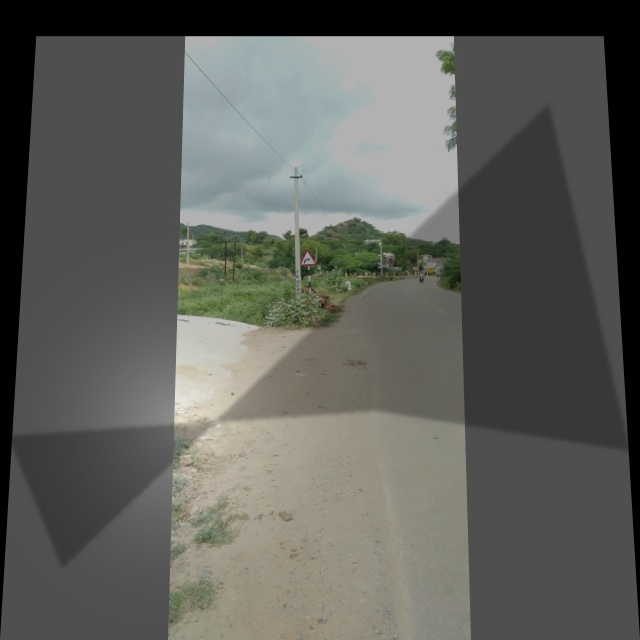Right_Hand_Curve: (298, 249, 317, 267)
